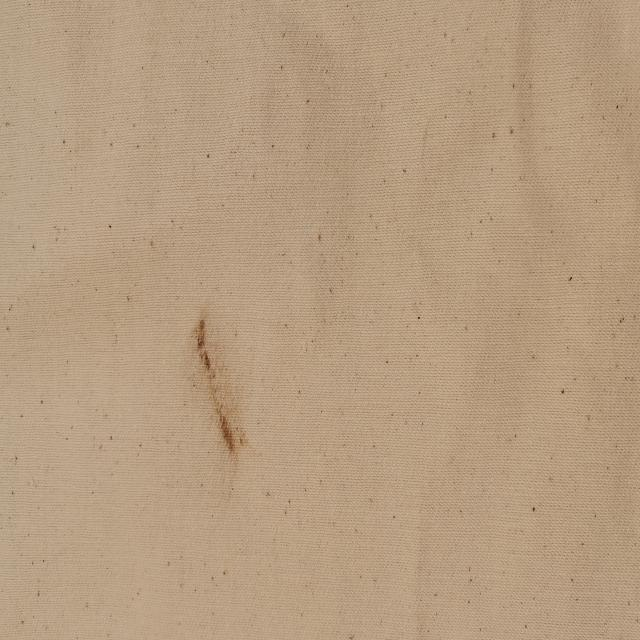taaaches: (184, 282, 256, 490)
